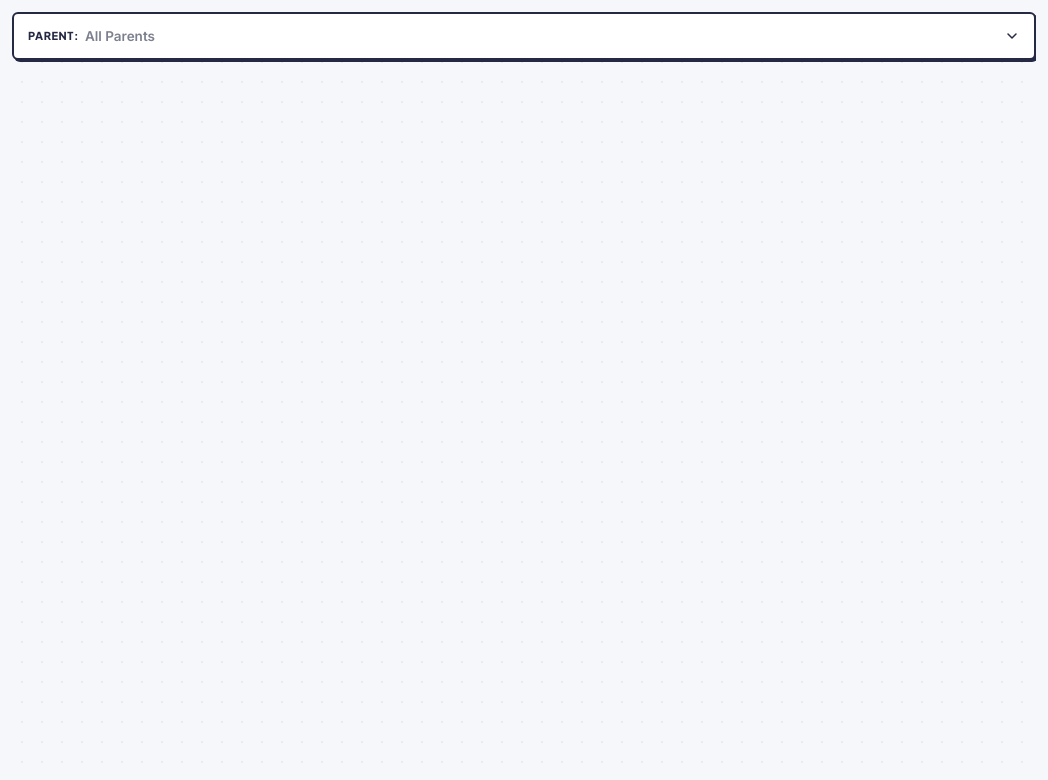
Test: FilterSelect Component & Option Normalization › renders object options with name and variations without React object-as-child crash
Later steps or results of the test are not shown.
Expected: the text "All Parents" is shown, [85, 26, 155, 46]
# Open options panel
Click the button "Parent: All Parents".
click(51, 35)  # box [12, 12, 1036, 60]
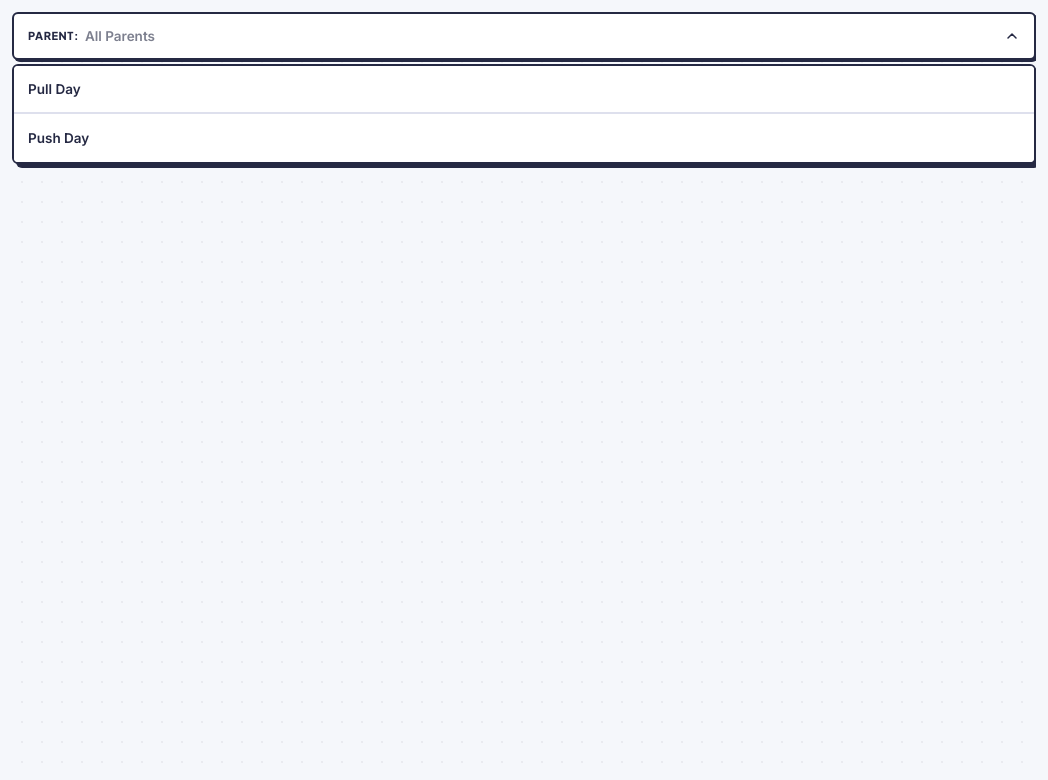
Expected: the option "Pull Day" is shown, [14, 66, 1034, 114]
Expected: the option "Push Day" is shown, [14, 114, 1034, 162]
